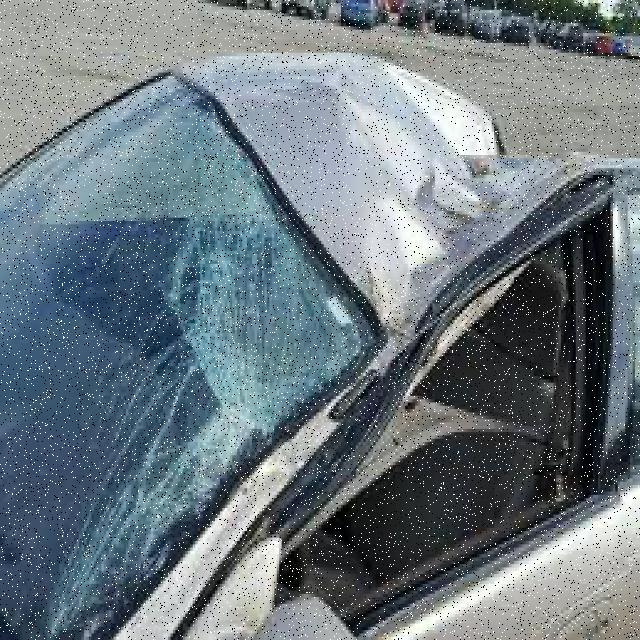Front-Windscreen-Damage: (0, 83, 210, 624)
roof-dent: (230, 71, 584, 279)
